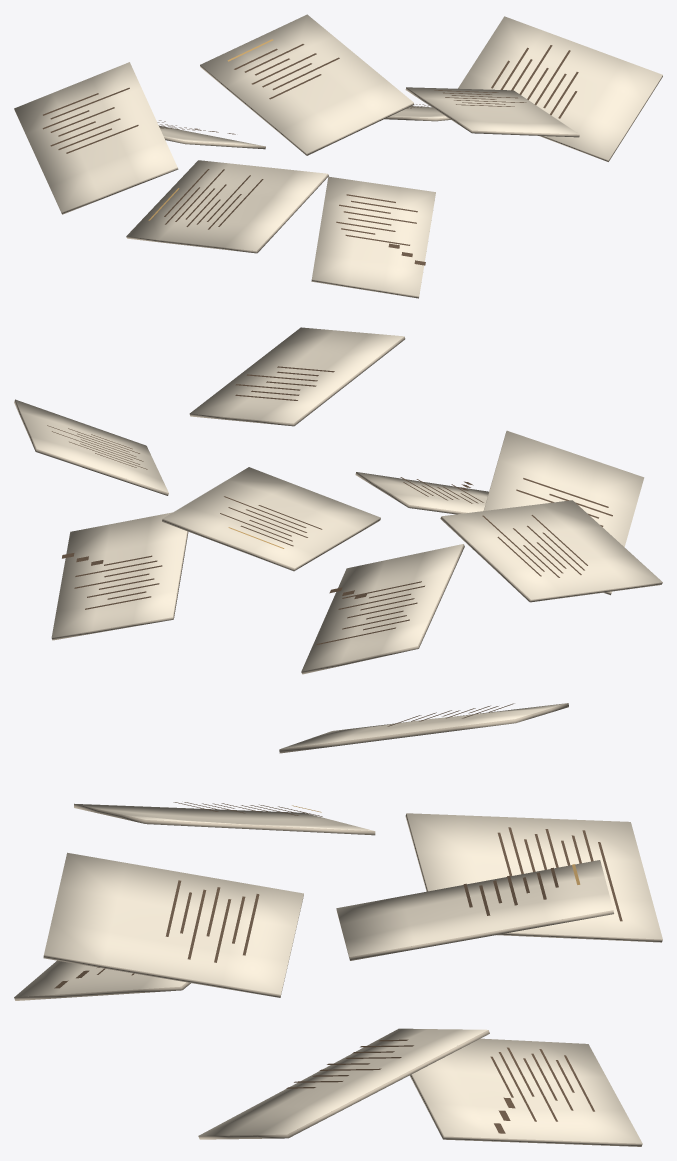
File: documents.opt.glb
3 renders of one model, top to bottom at view 1: azimuth 30°, elevation 25°; view 2: azimuth 150°, elevation 25°; view 3: azimuth 270°, elevation 25°, orthographic. The views are drawn at different scales.
Visible parts, largest first — view 1: MITHAQ_Doc_03_Unfinished_Form, MITHAQ_Doc_01_Legal_Notes, MITHAQ_Doc_05_Research_Sheet, MITHAQ_Doc_07_Pleading_Fragment, MITHAQ_Doc_08_Practice_Checklist, MITHAQ_Doc_06_Memo_Draft, MITHAQ_Doc_02_Academic_Reference, MITHAQ_Doc_04_Case_Excerpt; view 2: MITHAQ_Doc_01_Legal_Notes, MITHAQ_Doc_04_Case_Excerpt, MITHAQ_Doc_03_Unfinished_Form, MITHAQ_Doc_02_Academic_Reference, MITHAQ_Doc_06_Memo_Draft, MITHAQ_Doc_08_Practice_Checklist, MITHAQ_Doc_05_Research_Sheet, MITHAQ_Doc_07_Pleading_Fragment; view 3: MITHAQ_Doc_06_Memo_Draft, MITHAQ_Doc_04_Case_Excerpt, MITHAQ_Doc_02_Academic_Reference, MITHAQ_Doc_03_Unfinished_Form, MITHAQ_Doc_05_Research_Sheet, MITHAQ_Doc_08_Practice_Checklist, MITHAQ_Doc_01_Legal_Notes, MITHAQ_Doc_07_Pleading_Fragment.
Boxes of the visible parts, <box> form: MITHAQ_Doc_03_Unfinished_Form: <box>200,14,414,155</box>; MITHAQ_Doc_01_Legal_Notes: <box>14,62,178,214</box>; MITHAQ_Doc_05_Research_Sheet: <box>458,16,662,161</box>; MITHAQ_Doc_07_Pleading_Fragment: <box>311,176,435,298</box>; MITHAQ_Doc_08_Practice_Checklist: <box>126,160,328,253</box>; MITHAQ_Doc_06_Memo_Draft: <box>405,87,579,137</box>; MITHAQ_Doc_02_Academic_Reference: <box>157,120,265,149</box>; MITHAQ_Doc_04_Case_Excerpt: <box>384,104,450,121</box>; MITHAQ_Doc_01_Legal_Notes: <box>440,500,662,602</box>; MITHAQ_Doc_04_Case_Excerpt: <box>51,512,188,640</box>; MITHAQ_Doc_03_Unfinished_Form: <box>162,467,380,571</box>; MITHAQ_Doc_02_Academic_Reference: <box>301,544,464,674</box>; MITHAQ_Doc_06_Memo_Draft: <box>189,327,405,426</box>; MITHAQ_Doc_08_Practice_Checklist: <box>483,430,644,595</box>; MITHAQ_Doc_05_Research_Sheet: <box>14,399,168,495</box>; MITHAQ_Doc_07_Pleading_Fragment: <box>355,472,488,514</box>; MITHAQ_Doc_06_Memo_Draft: <box>43,852,303,997</box>; MITHAQ_Doc_04_Case_Excerpt: <box>409,1038,642,1146</box>; MITHAQ_Doc_02_Academic_Reference: <box>405,813,662,942</box>; MITHAQ_Doc_03_Unfinished_Form: <box>336,860,613,960</box>; MITHAQ_Doc_05_Research_Sheet: <box>198,1028,489,1139</box>; MITHAQ_Doc_08_Practice_Checklist: <box>74,802,375,835</box>; MITHAQ_Doc_01_Legal_Notes: <box>279,703,568,753</box>; MITHAQ_Doc_07_Pleading_Fragment: <box>14,960,190,1000</box>.
Bounding box in the file's own units: 4.23 × 1.04 × 2.8.
